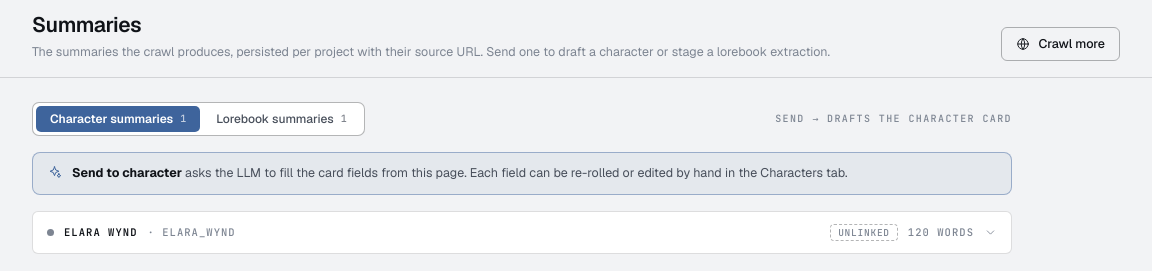
SummariesScreen › splits results into character and lorebook sub-tabs
This screenshot has width=1152, height=271.
Check: the text "Elara Wynd" is shown, box [64,227,138,238]
Check: the text "Harpers" is not shown
What coordinates should you click on to do the following:
click the button "Lorebook summaries 1"
I would click on:
 (282, 119)
Its box is [202,106,361,132].
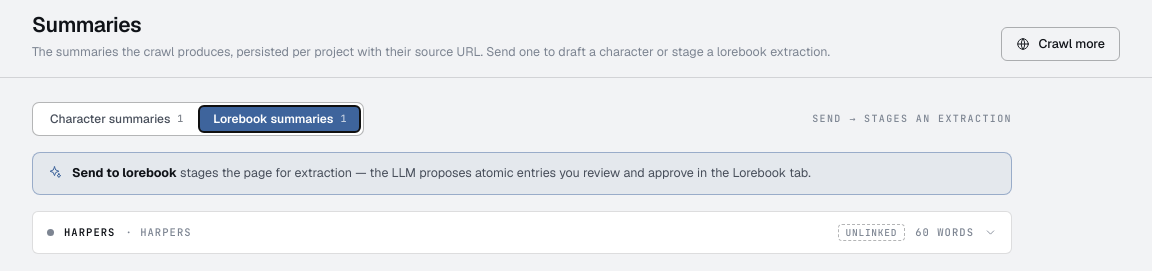
Check: the text "Harpers" is shown, box [64,227,116,238]
Check: the button "Elara Wynd" is gone
